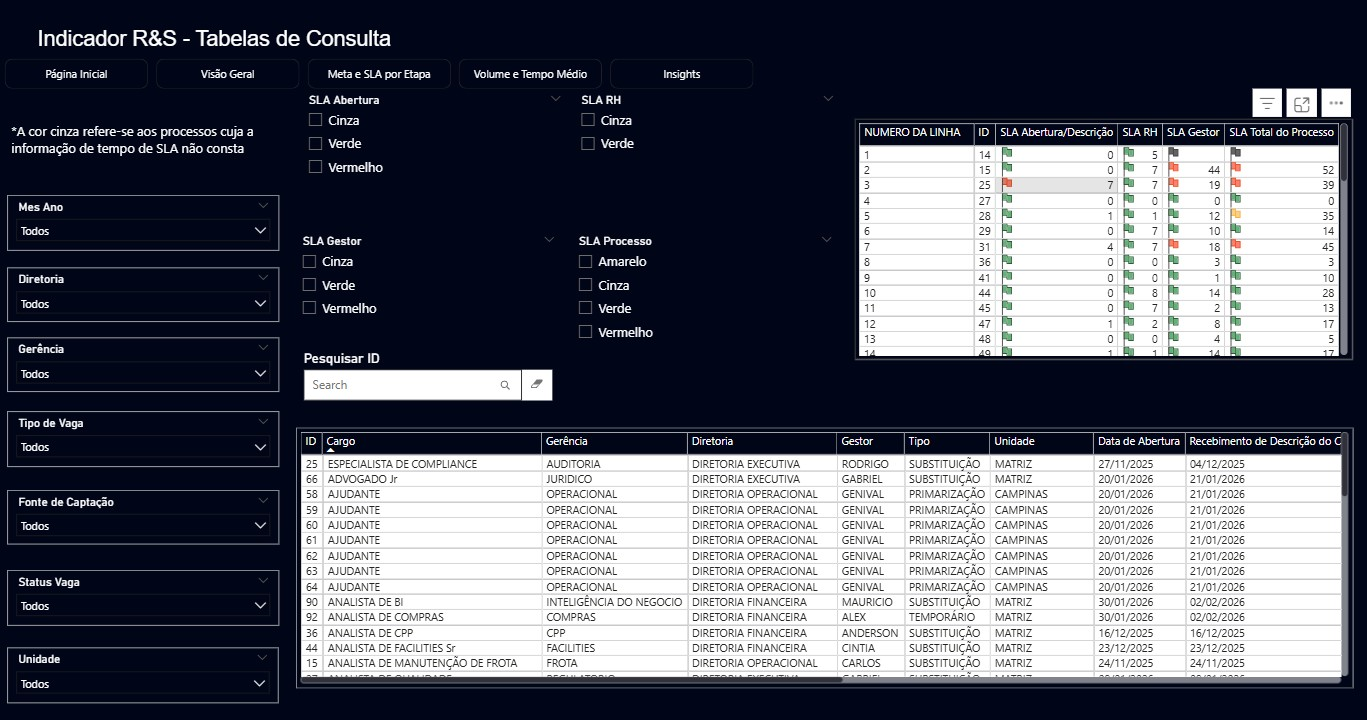

This screenshot's page, from the dashboard's own definition file:
{"tool":"powerbi","page":{"name":"Tabelas de Consulta","canvas":[1700,900],"ordinal":4},"visuals":[{"type":"pivotTable","fields":{"Values":["Min(fVagas.CARGO)","Min(fVagas.GERENCIA )","Min(fVagas.DIRETORIA )","Min(fVagas.GESTOR)","Min(fVagas.TIPO)","Min(fVagas.UNIDADE)","Min(fVagas.DATA DE ABERTURA)","Min(fVagas.RECEBIMENTO DE DESCRIÇÃO DE CARGO)","Min(fVagas.TRIAGEM DE CV)","Min(fVagas.ENTREVISTA RH)","Min(fVagas.ENCAMINHAMENTO AO GESTOR)","Min(fVagas.ENTREVISTA GESTOR)"],"Rows":["fVagas.ID"]},"box":[370.7,535,1306.1,322.2],"z":0},{"type":"pivotTable","fields":{"Values":["Min(fVagas.ID)","Sum(fVagas.SLA ABERTURA/DESCRIÇÃO)","Sum(fVagas.SLA RH)","Sum(fVagas.SLA GESTOR)","Sum(fVagas.SLA TOTAL DO PROCESSO)"],"Rows":["fVagas.NUMERO DA LINHA"]},"box":[1061,152.6,615.3,297.9],"z":1000},{"type":"image","box":[1176.3,25,499,100.1],"z":2000},{"type":"slicer","fields":{"Values":["dDiretoria.DIRETORIA "]},"box":[13.3,336.8,335.9,67.5],"z":3000},{"type":"slicer","fields":{"Values":["dGerencia.GERENCIA "]},"box":[13.3,422.7,335.9,67.5],"z":4000},{"type":"slicer","fields":{"Values":["dFonte.FONTE"]},"box":[13.3,611.3,335.9,67.5],"z":5000},{"type":"slicer","fields":{"Values":["dTipo.TIPO"]},"box":[13.3,514.7,335.9,69],"z":6000},{"type":"slicer","fields":{"Values":["dStatus.STATUS DA VAGA"]},"box":[13.3,711,335.9,69],"z":7000},{"type":"slicer","fields":{"Values":["dUnidade.UNIDADE"]},"box":[13.6,806.9,334.8,68.6],"z":8000},{"type":"slicer","fields":{"Values":["fVagas.Mes Ano"]},"box":[13.3,247.8,335.9,69],"z":9000},{"type":"slicer","title":"SLA Abertura/Descrição","fields":{"Values":["fVagas.COR SLA ABERTURA"]},"box":[373,116.3,336.7,174.4],"z":10000},{"type":"slicer","title":"SLA RH","fields":{"Values":["fVagas.COR SLA RH"]},"box":[709.7,116.3,336.7,174.4],"z":11000},{"type":"slicer","title":"SLA Gestor","fields":{"Values":["fVagas.COR SLA GESTOR"]},"box":[366,290.9,336.3,159.6],"z":12000},{"type":"slicer","title":"SLA do Processo","fields":{"Values":["fVagas.COR SLA PROCESSO"]},"box":[707,290.9,337.9,159.6],"z":13000},{"type":"textbox","box":[13.5,151.8,335.7,74.2],"z":14000},{"type":"textFilter25A4896A83E0487089E2B90C9AE57C8A","title":"Pesquisar ID","fields":{"field":["fVagas.ID"]},"box":[375.5,438.4,317.3,82.4],"z":15000},{"type":"textbox","box":[47,34.2,527.9,70.5],"z":16000},{"type":"pageNavigator","box":[10.1,79.3,926.1,37.1],"z":17000}]}

Visuals, with their boxes in screenshot pixels (x1, y1, x2, y2), scaled from the page's 1700x900 canvas onto the 1367x720 screenshot:
pivotTable - Min(fVagas.CARGO) x Min(fVagas.GERENCIA ): {"x1": 298, "y1": 428, "x2": 1348, "y2": 686}
pivotTable - Min(fVagas.ID) x Sum(fVagas.SLA ABERTURA/DESCRIÇÃO): {"x1": 853, "y1": 122, "x2": 1348, "y2": 360}
image: {"x1": 946, "y1": 20, "x2": 1347, "y2": 100}
slicer - dDiretoria.DIRETORIA : {"x1": 11, "y1": 269, "x2": 281, "y2": 323}
slicer - dGerencia.GERENCIA : {"x1": 11, "y1": 338, "x2": 281, "y2": 392}
slicer - dFonte.FONTE: {"x1": 11, "y1": 489, "x2": 281, "y2": 543}
slicer - dTipo.TIPO: {"x1": 11, "y1": 412, "x2": 281, "y2": 467}
slicer - dStatus.STATUS DA VAGA: {"x1": 11, "y1": 569, "x2": 281, "y2": 624}
slicer - dUnidade.UNIDADE: {"x1": 11, "y1": 646, "x2": 280, "y2": 700}
slicer - fVagas.Mes Ano: {"x1": 11, "y1": 198, "x2": 281, "y2": 253}
"SLA Abertura/Descrição" slicer: {"x1": 300, "y1": 93, "x2": 571, "y2": 233}
"SLA RH" slicer: {"x1": 571, "y1": 93, "x2": 841, "y2": 233}
"SLA Gestor" slicer: {"x1": 294, "y1": 233, "x2": 565, "y2": 360}
"SLA do Processo" slicer: {"x1": 569, "y1": 233, "x2": 840, "y2": 360}
textbox: {"x1": 11, "y1": 121, "x2": 281, "y2": 181}
"Pesquisar ID" textFilter25A4896A83E0487089E2B90C9AE57C8A: {"x1": 302, "y1": 351, "x2": 557, "y2": 417}
textbox: {"x1": 38, "y1": 27, "x2": 462, "y2": 84}
pageNavigator: {"x1": 8, "y1": 63, "x2": 753, "y2": 93}
